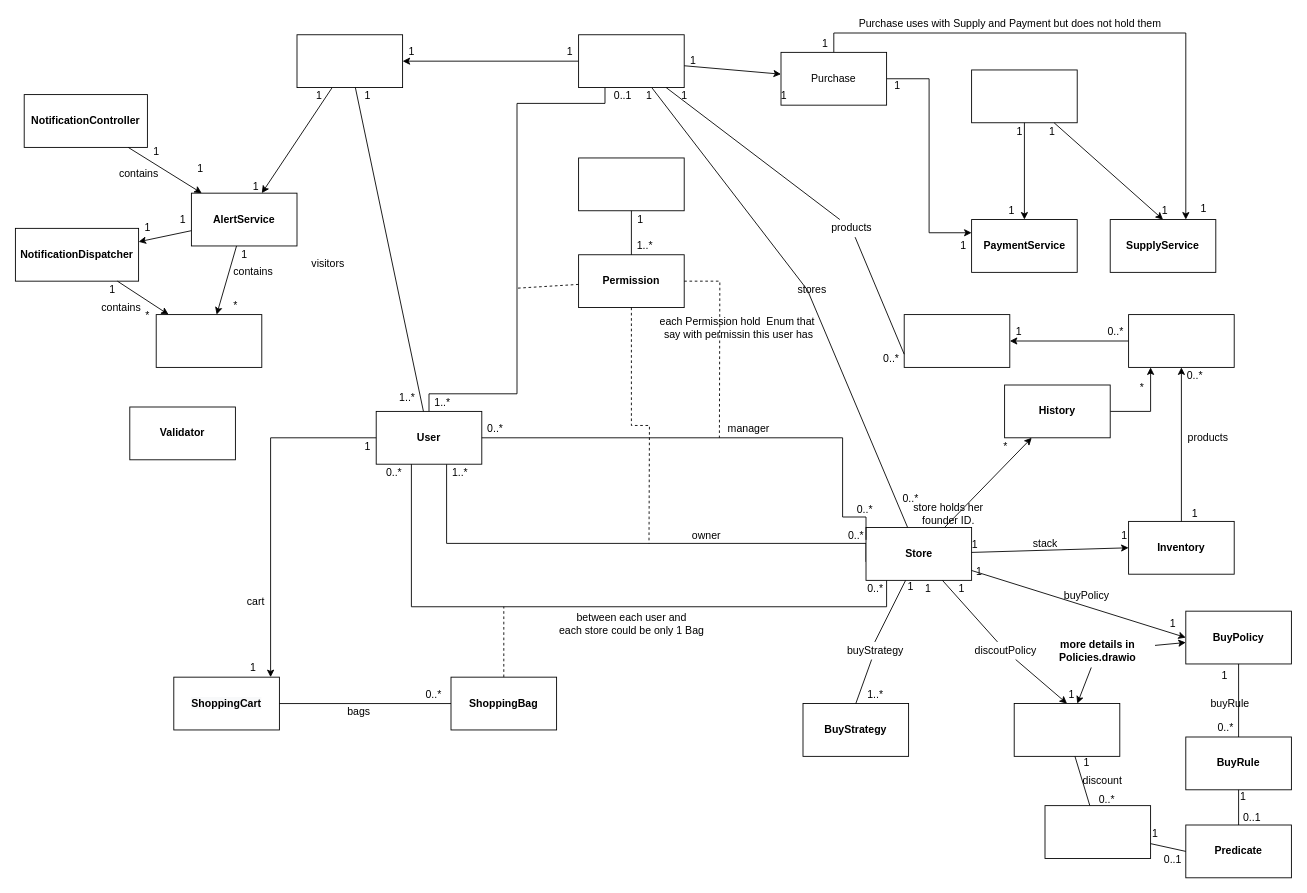
This 1307x893 diagram has some shape labels left out. Each missing label, with the centre of its shape:
DiscountPolicy: [1066,729]
DiscountRule: [1097,831]
ExternalServices: [1024,96]
Market: [631,61]
Notification: [208,340]
PermissionManager: [631,184]
ProductStore: [1181,340]
ProductType: [956,340]
UserManager: [349,61]
